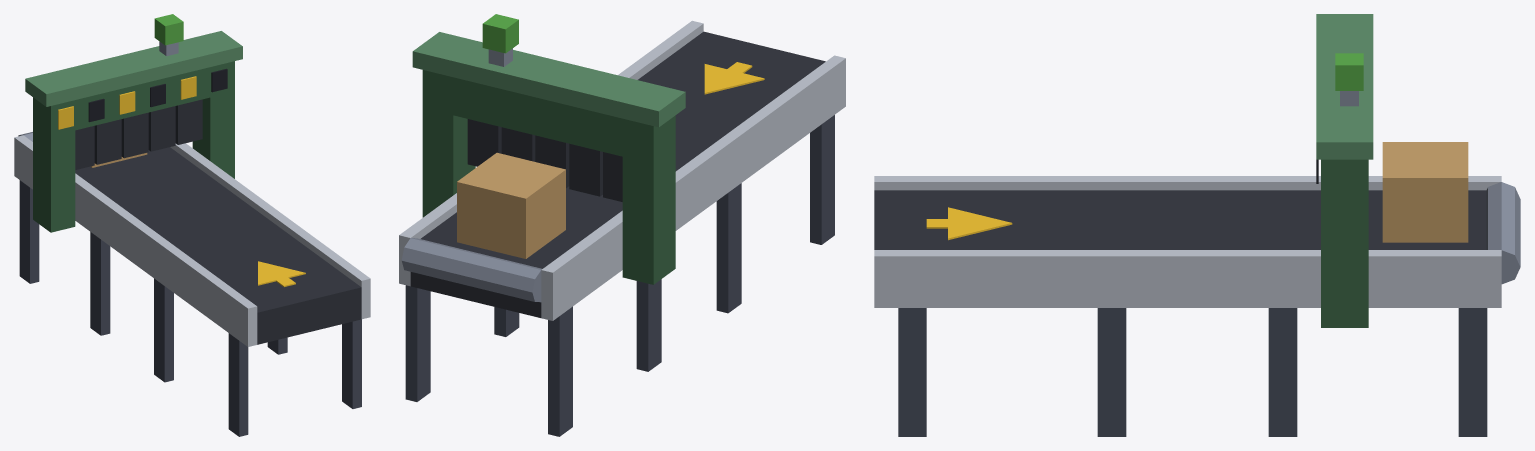
File: exit.glb
3 renders of one model, left to right at view 1: azimuth 30°, elevation 25°; view 2: azimuth 150°, elevation 25°; view 3: azimuth 270°, elevation 25°, orthographic. The views are drawn at different scales.
Visible parts, largest first — view 1: exit; view 2: exit; view 3: exit.
Boxes of the visible parts, x1,y1,x2,y2 form: exit: (14, 14, 370, 436); exit: (399, 14, 845, 436); exit: (874, 14, 1520, 436).
Bounding box in the file's own units: 0.64 × 0.84 × 1.36.
Materials: 1 (1 with a texture image).
